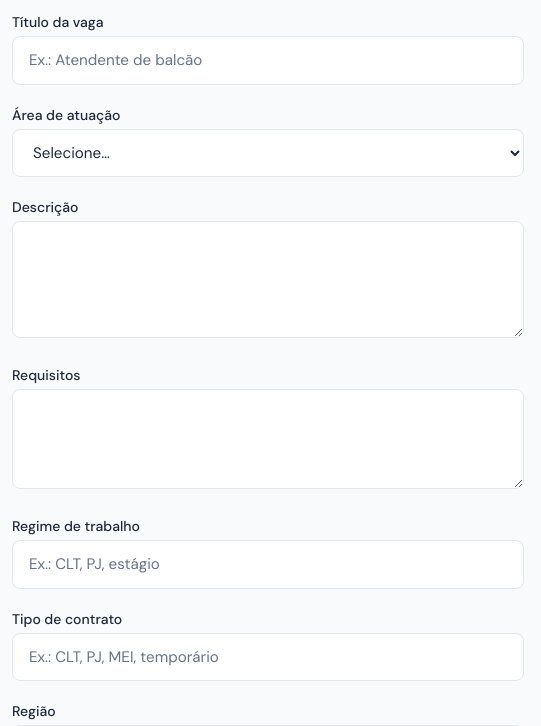
Test: JobForm — sugerir nova área (USP-019) › selecionar "Outro / sugerir nova área" revela o input de texto livre
expect the field with placeholder "jardinagem" is not shown: met
Select "Outro / sugerir nova área" in the dropdown labelled "Área de atuação" at (268, 153), box [12,129,524,177]
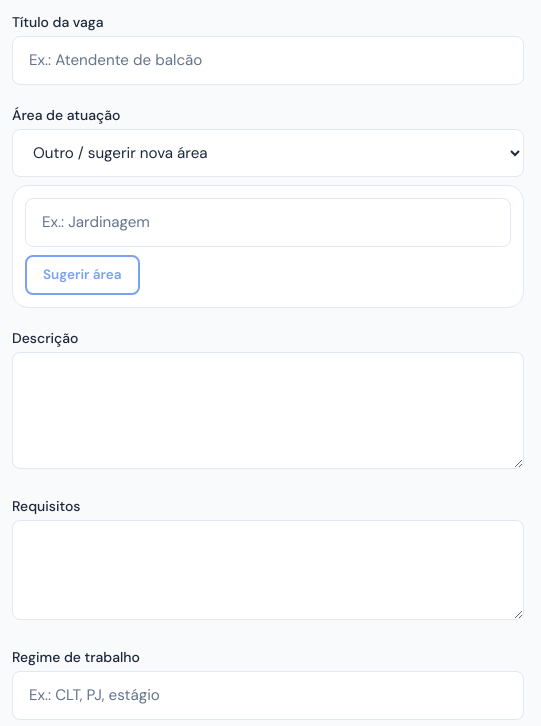
expect the field with placeholder "Ex.: Jardinagem" is shown: met, box [25,198,511,247]
